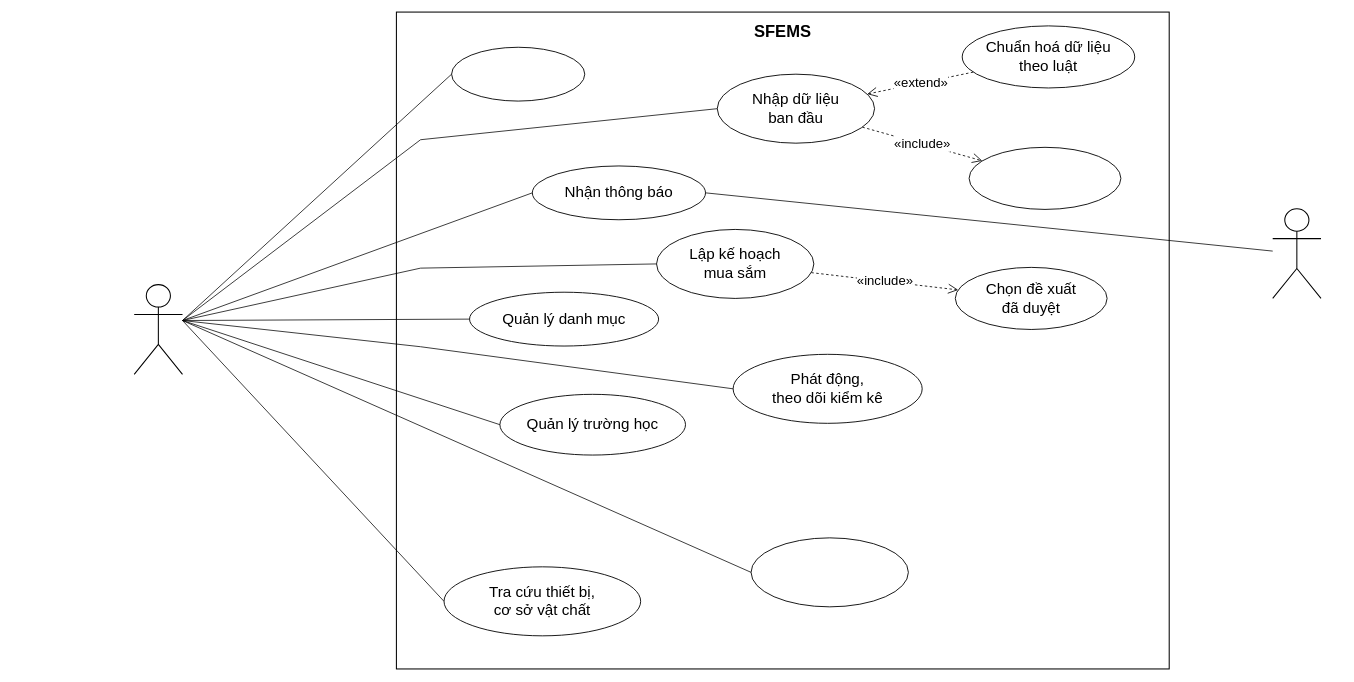
Some shapes in this 1354 by 682 pixel diagram are drawn without their labels. Here are the shapes that lost their labels. From the top down, the box of each, then its label:
(451, 47, 585, 101): Đăng nhập
(968, 147, 1121, 210): Kiểm tra dữ liệu tệp
(1272, 208, 1321, 299): Máy chủ thư (SMTP)
(133, 284, 183, 375): Chuyên viên Sở
(750, 537, 909, 607): Xem báo cáo, thống kê
